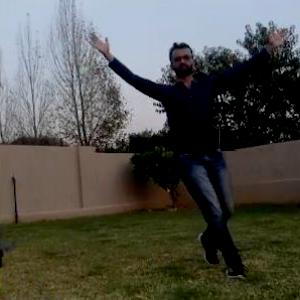takeoff: (83, 32, 283, 272)
